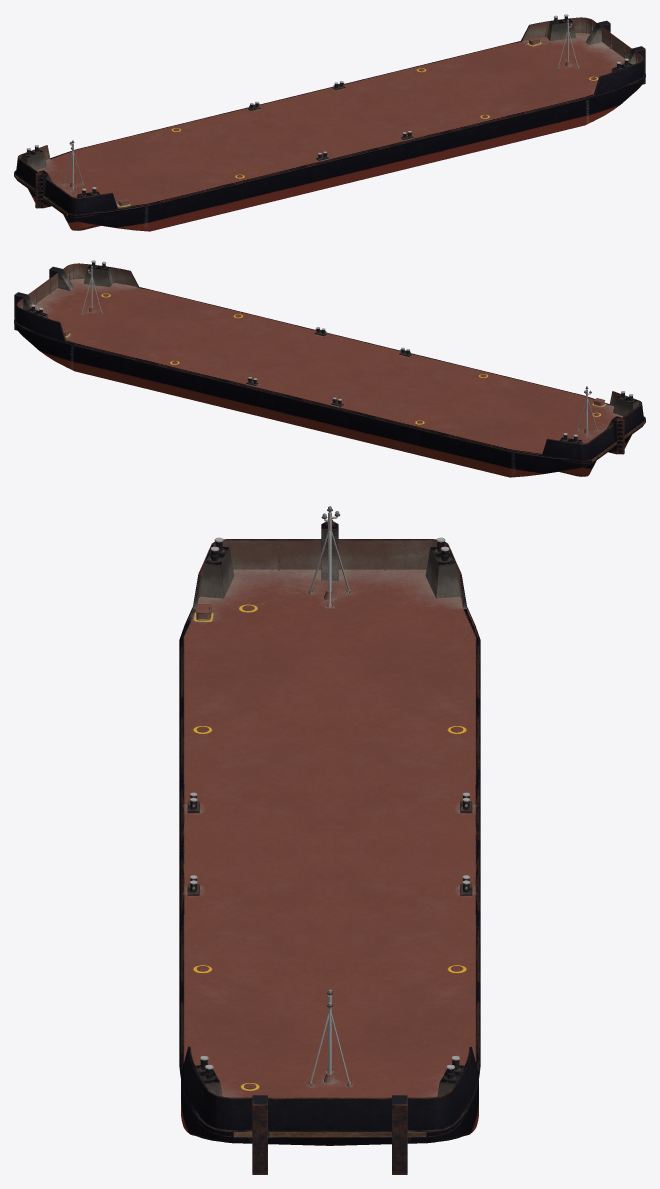
Rendered from Barge.fbx.
3 renders of one model, top to bottom at view 1: azimuth 30°, elevation 25°; view 2: azimuth 150°, elevation 25°; view 3: azimuth 270°, elevation 25°, orthographic. The views are drawn at different scales.
Parts seen in each view (by area): view 1: Cube.011__0; view 2: Cube.011__0; view 3: Cube.011__0.
Boxes of the visible parts, left/top/right/bottom form: Cube.011__0: left=14, top=14, right=645, bottom=231; Cube.011__0: left=14, top=260, right=645, bottom=477; Cube.011__0: left=179, top=506, right=480, bottom=1174.
Size of the model in its own units: 4372 by 523 by 967.
